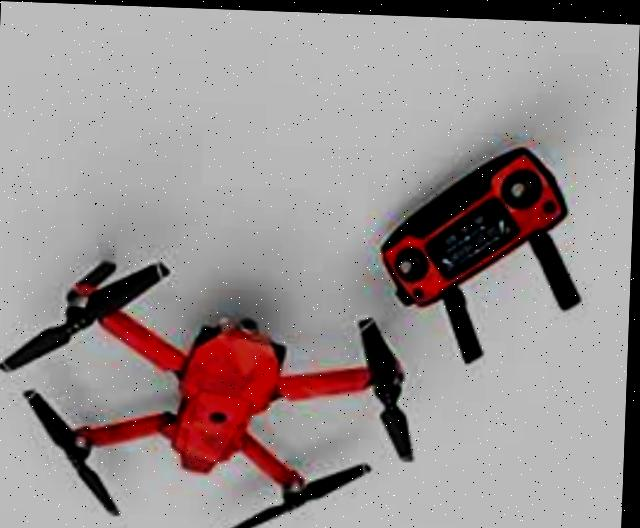drone: (0, 214, 430, 528)
